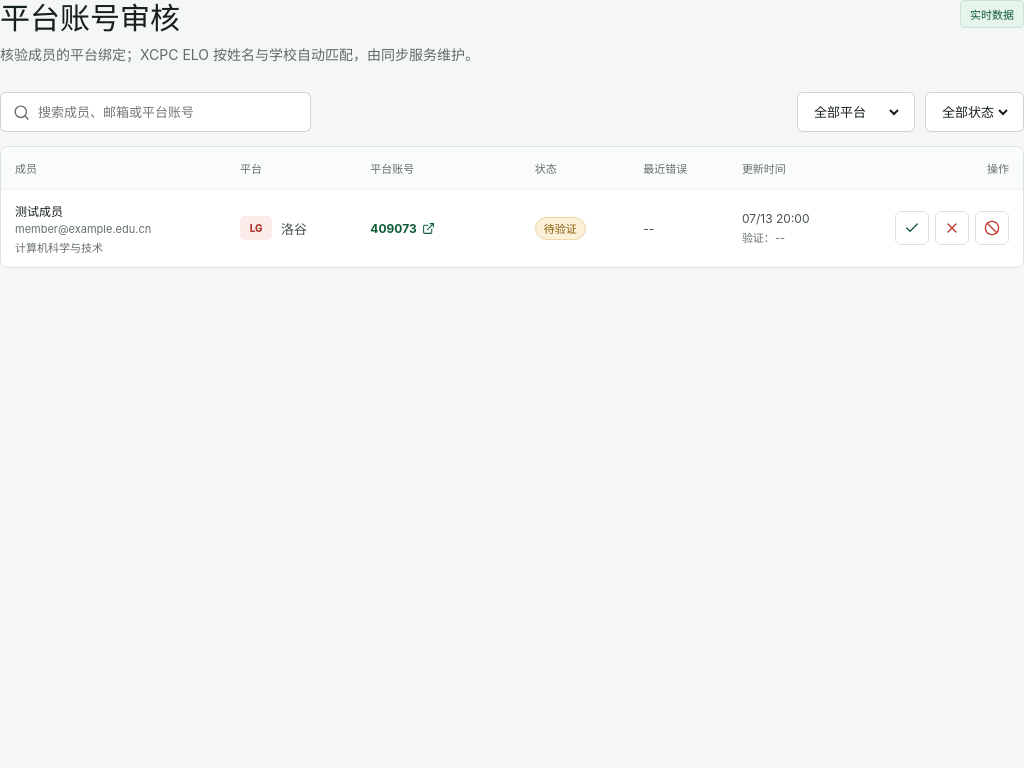
Test: AdminAccountsPage with Supabase configured › requires confirmation before disabling an account
Check: the row "测试成员" is shown, box [1,189,1023,267]
Click the button named "停用 测试成员 的 洛谷 账号" at (992, 228), box [975,211,1009,245]
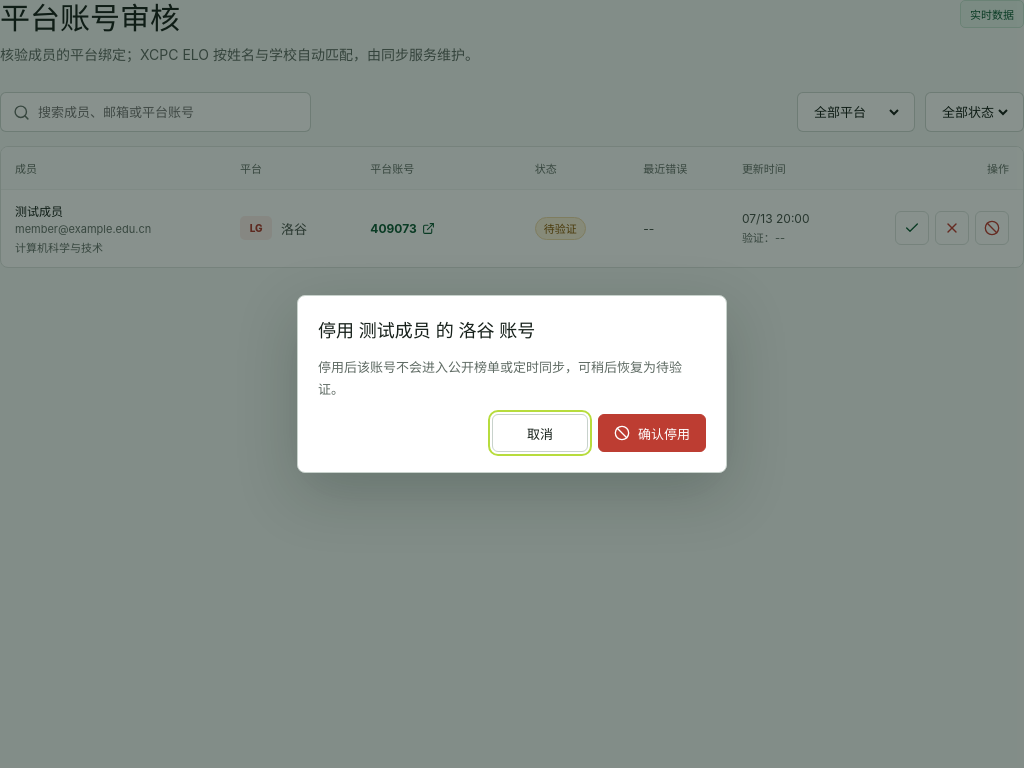
Click the button "确认停用" at (652, 433), box [598,414,706,452]
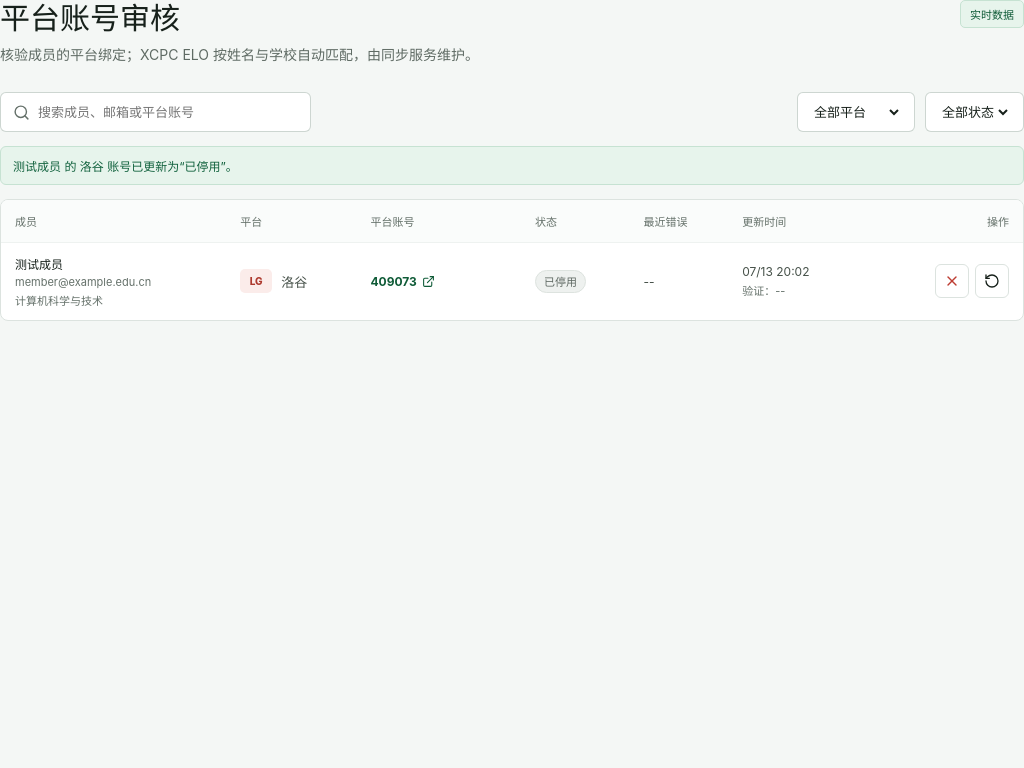
Check: the text "已停用" is shown, box [535,270,586,293]
